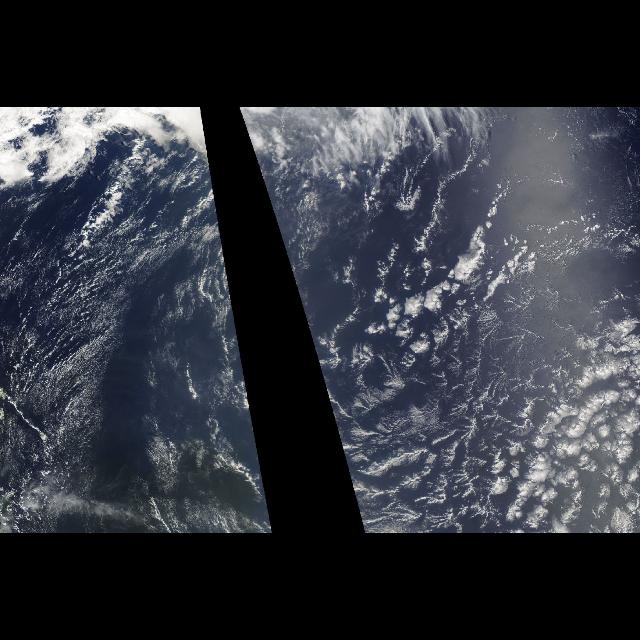Flower: (348, 219, 640, 533)
Sugar: (2, 192, 268, 526), (322, 299, 568, 533), (264, 192, 280, 232)
